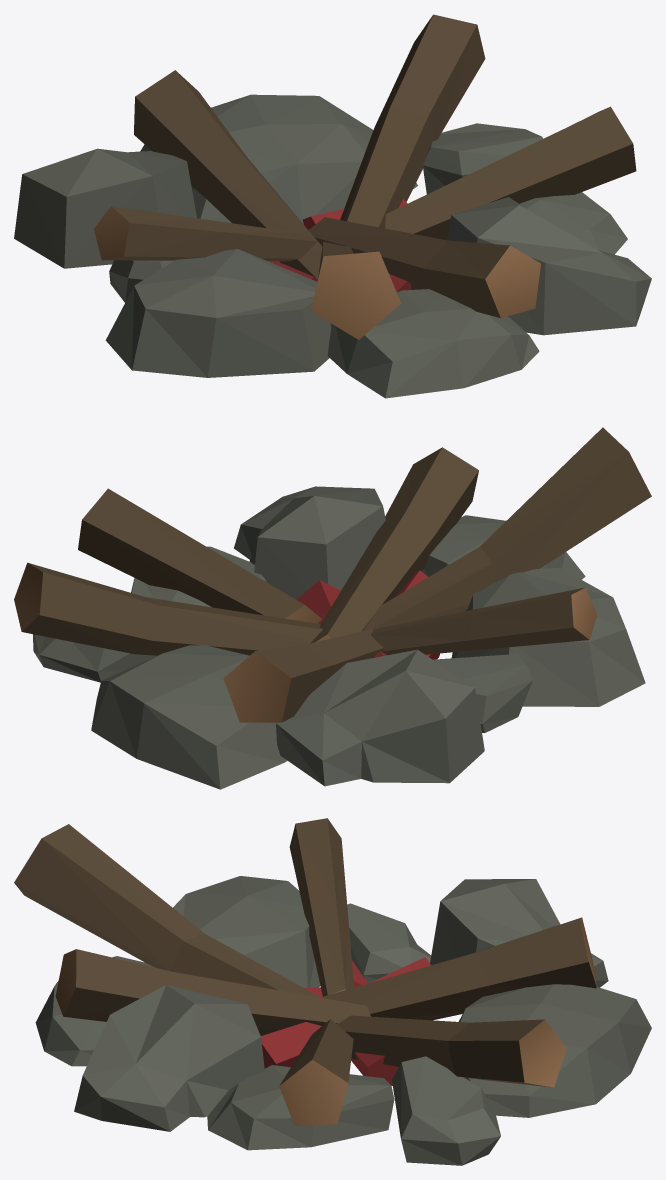
File: ZLP_Build_F_35.FBX
The picture shows the model from 3 angles, top to bottom: view 1: azimuth 30°, elevation 25°; view 2: azimuth 150°, elevation 25°; view 3: azimuth 270°, elevation 25°; orthographic projection. The views are drawn at different scales.
Visible parts, largest first — view 1: ZLP_Build_F_35; view 2: ZLP_Build_F_35; view 3: ZLP_Build_F_35.
Boxes of the visible parts, x1,y1,x2,y2 form: ZLP_Build_F_35: (14, 14, 651, 398); ZLP_Build_F_35: (14, 427, 651, 789); ZLP_Build_F_35: (14, 818, 651, 1165).
Size of the model in its own units: 101 by 31.82 by 109.
